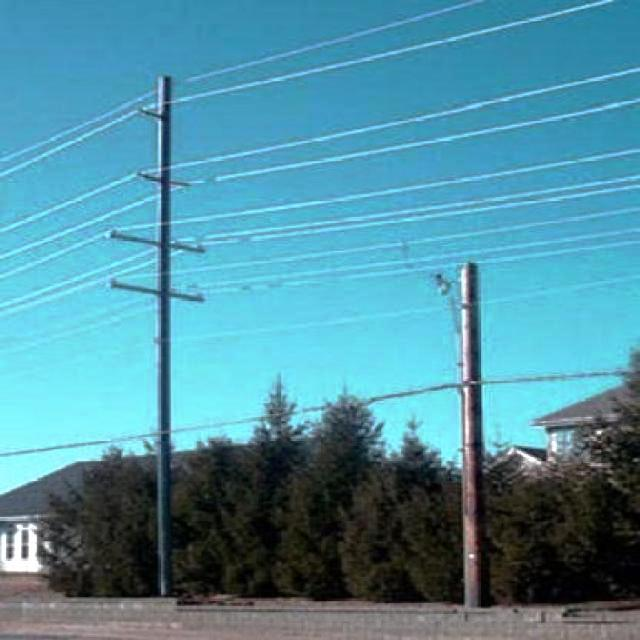poles: (119, 68, 216, 595)
wires: (189, 0, 638, 298), (6, 85, 156, 328)
